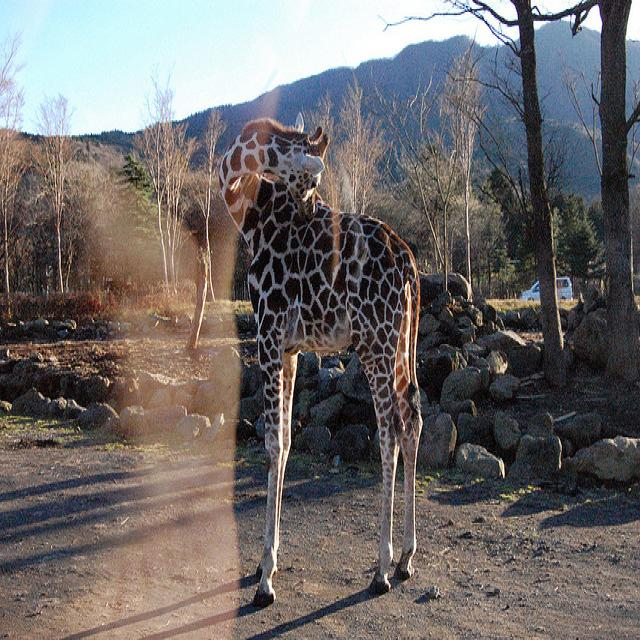Vehicle: (521, 276, 573, 301)
